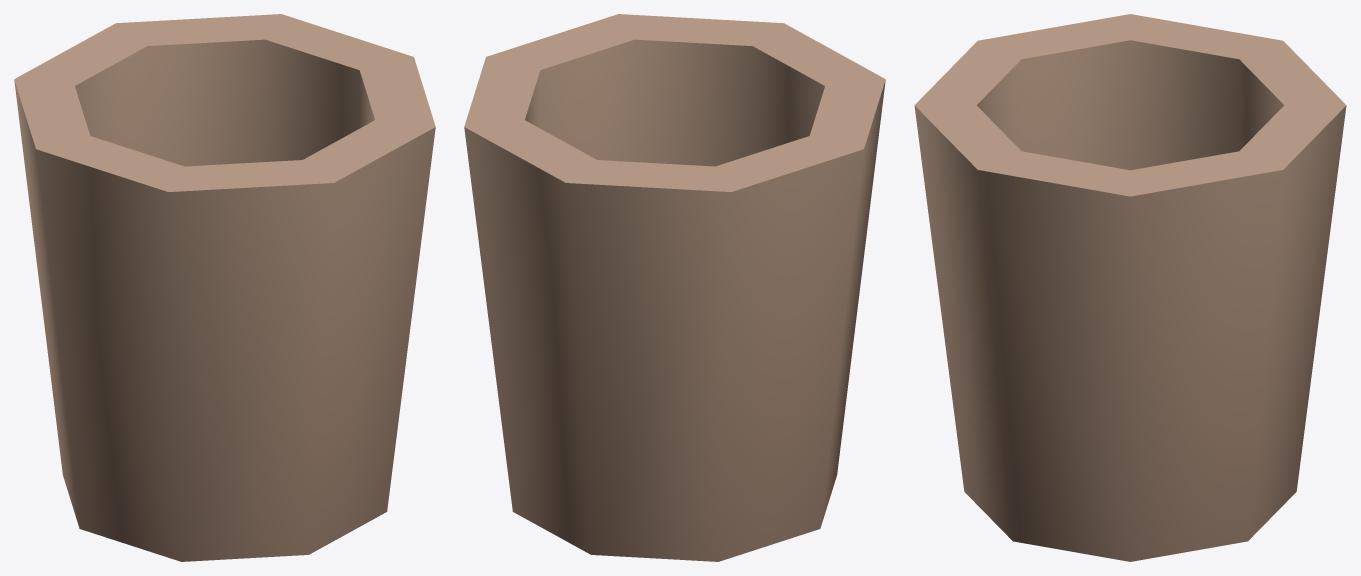
File: pot_0.glb
3 views of the same model, side by side, from view 1: azimuth 30°, elevation 25°; view 2: azimuth 150°, elevation 25°; view 3: azimuth 270°, elevation 25° (orthographic).
Parts seen in each view (by area): view 1: pot; view 2: pot; view 3: pot.
Boxes of the visible parts, x1,y1,x2,y2 form: pot: [14, 14, 435, 561]; pot: [464, 14, 885, 561]; pot: [914, 14, 1346, 561].
Size of the model in its own units: 0.2026 by 0.2 by 0.2026.
